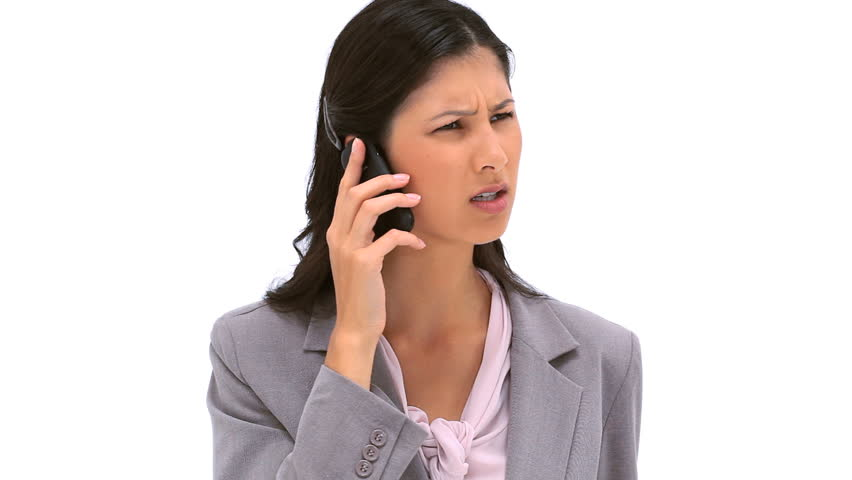phone: (329, 139, 434, 265)
talk: (330, 83, 522, 316)
